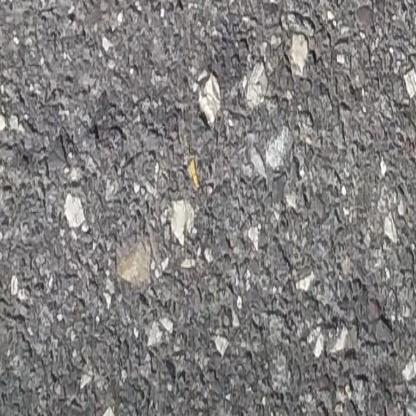Cracks: (405, 0, 416, 120)
